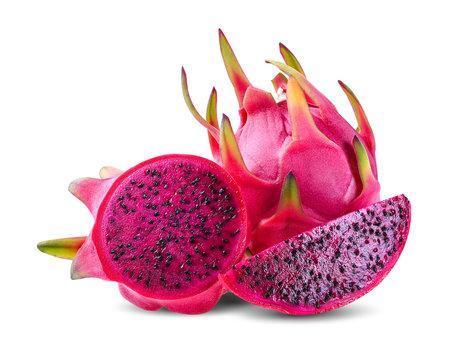dragon-fruit: (94, 151, 249, 314), (217, 191, 414, 317), (217, 100, 382, 247)
